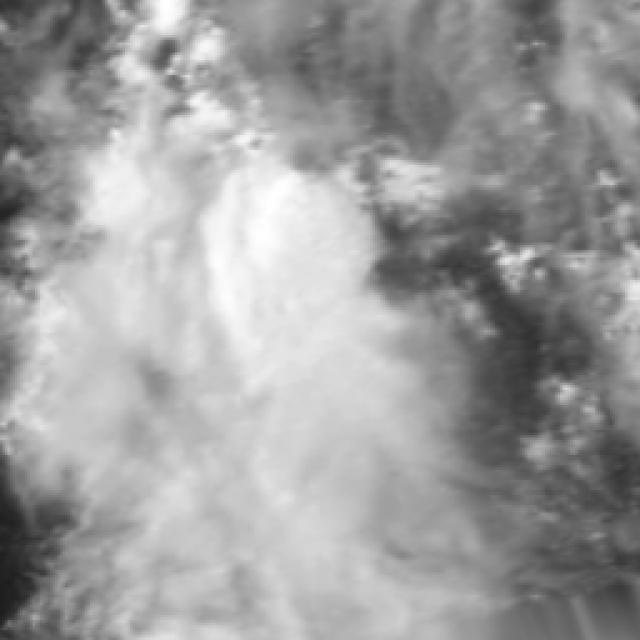CB: (213, 203, 344, 580)
